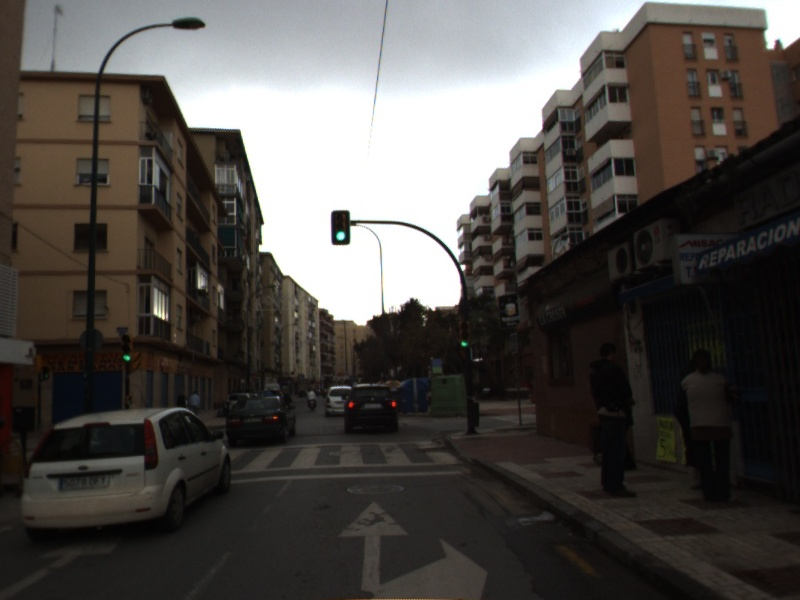STRAIGHT: (1, 531, 127, 600)
STRAIGHT_RIGHT: (335, 498, 491, 600)
